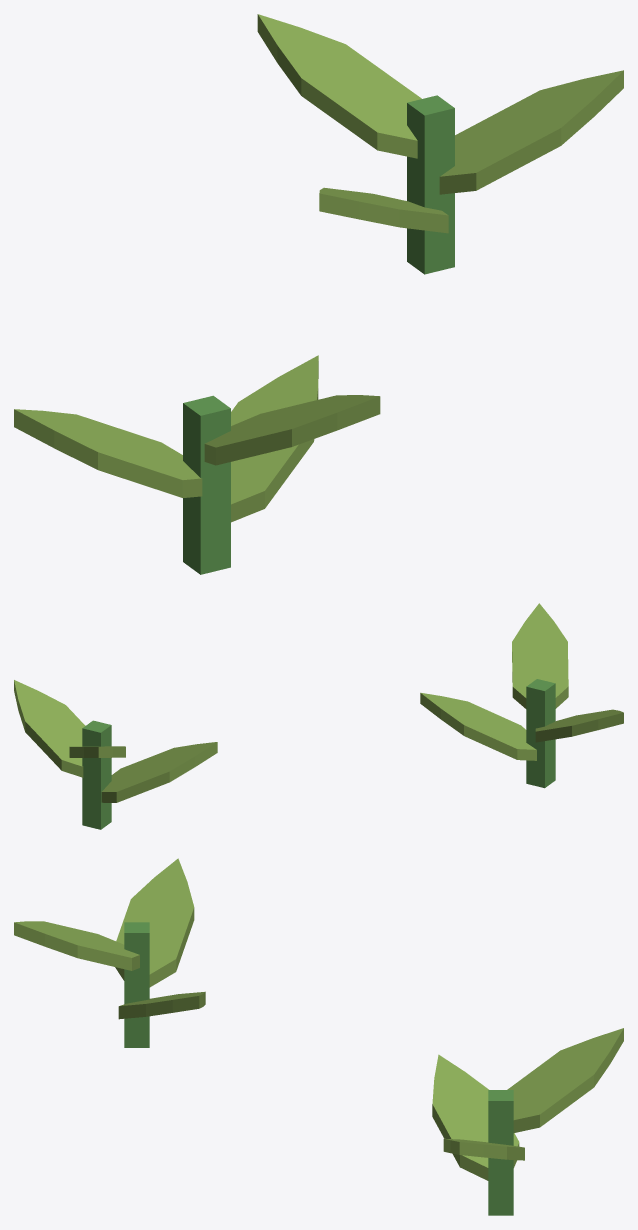
The model's file is crop_corn_sprout.glb.
The picture shows the model from 3 angles, top to bottom: view 1: azimuth 30°, elevation 25°; view 2: azimuth 150°, elevation 25°; view 3: azimuth 270°, elevation 25°; orthographic projection. The views are drawn at different scales.
Parts seen in each view (by area): view 1: body__leaf2.003, body__green2.002; view 2: body__leaf2.003, body__green2.002; view 3: body__leaf2.003, body__green2.002.
Part boxes in pixels (x1,y1,x2,y2): body__leaf2.003: (14,14,623,522); body__green2.002: (183,95,454,574); body__leaf2.003: (14,603,623,802); body__green2.002: (82,679,555,829); body__leaf2.003: (14,858,623,1180); body__green2.002: (124,922,513,1215).
Size of the model in its own units: 0.609 by 0.1515 by 0.5533.
